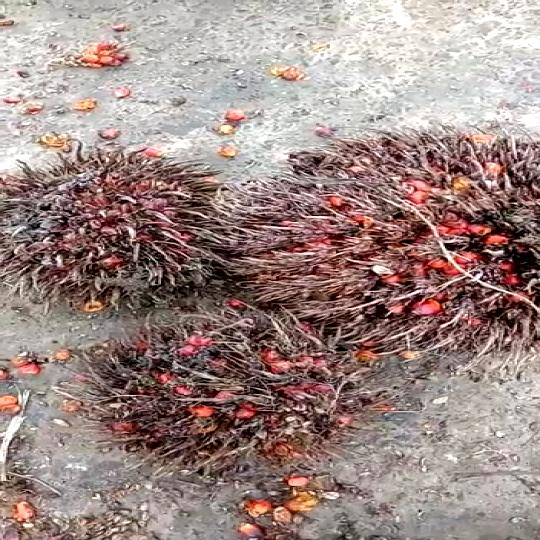terlalu masak: (224, 135, 540, 358), (60, 326, 394, 480), (0, 144, 235, 300)
